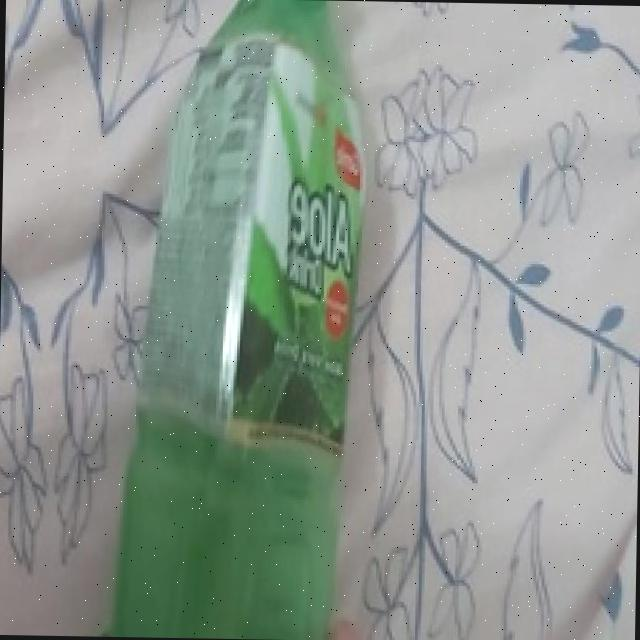bottle: (77, 0, 387, 640)
label: (122, 96, 385, 437)
